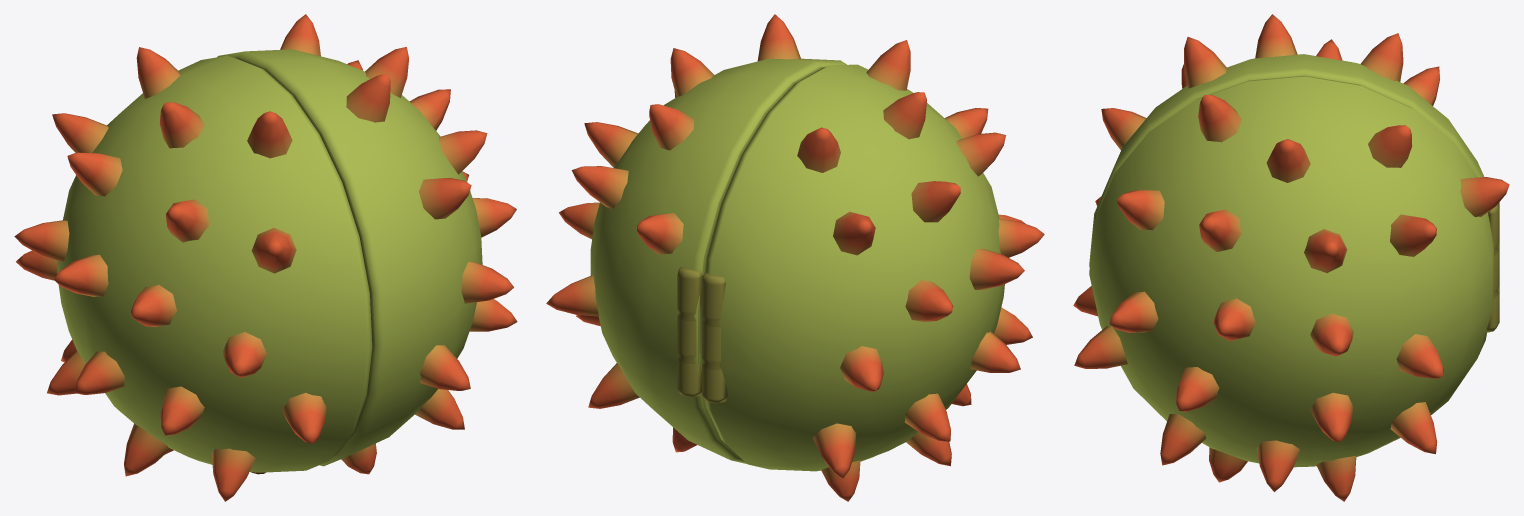
The model's file is kuri_momiji.glb.
3 renders of one model, left to right at view 1: azimuth 30°, elevation 25°; view 2: azimuth 150°, elevation 25°; view 3: azimuth 270°, elevation 25°, orthographic. The views are drawn at different scales.
Visible parts, largest first — view 1: bl, br; view 2: bl, br; view 3: br, bl.
Boxes of the visible parts, bbox=[...] form: bl: bbox=[14, 47, 372, 501]; br: bbox=[217, 14, 517, 474]; bl: bbox=[700, 40, 1044, 501]; br: bbox=[546, 14, 846, 463]; br: bbox=[1074, 76, 1509, 501]; bl: bbox=[1073, 14, 1499, 316].
Size of the model in its own units: 1.07 by 0.9252 by 0.9254.
